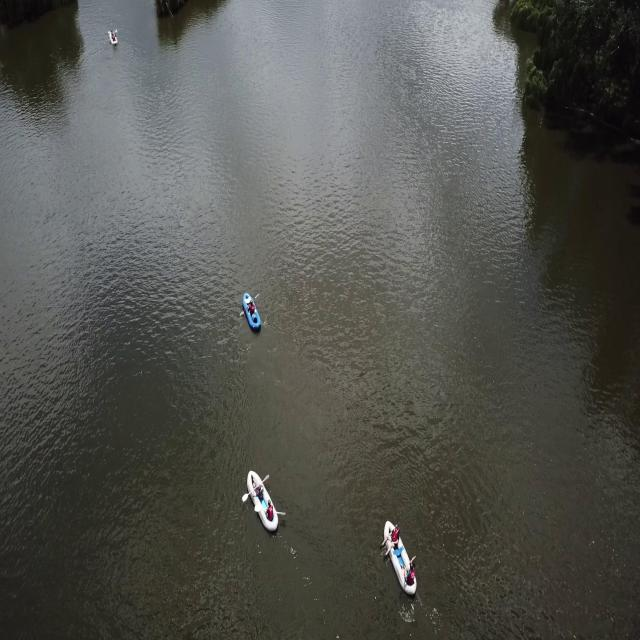kayak: (378, 521, 422, 594), (240, 467, 284, 536), (242, 287, 262, 336), (106, 28, 120, 52)
